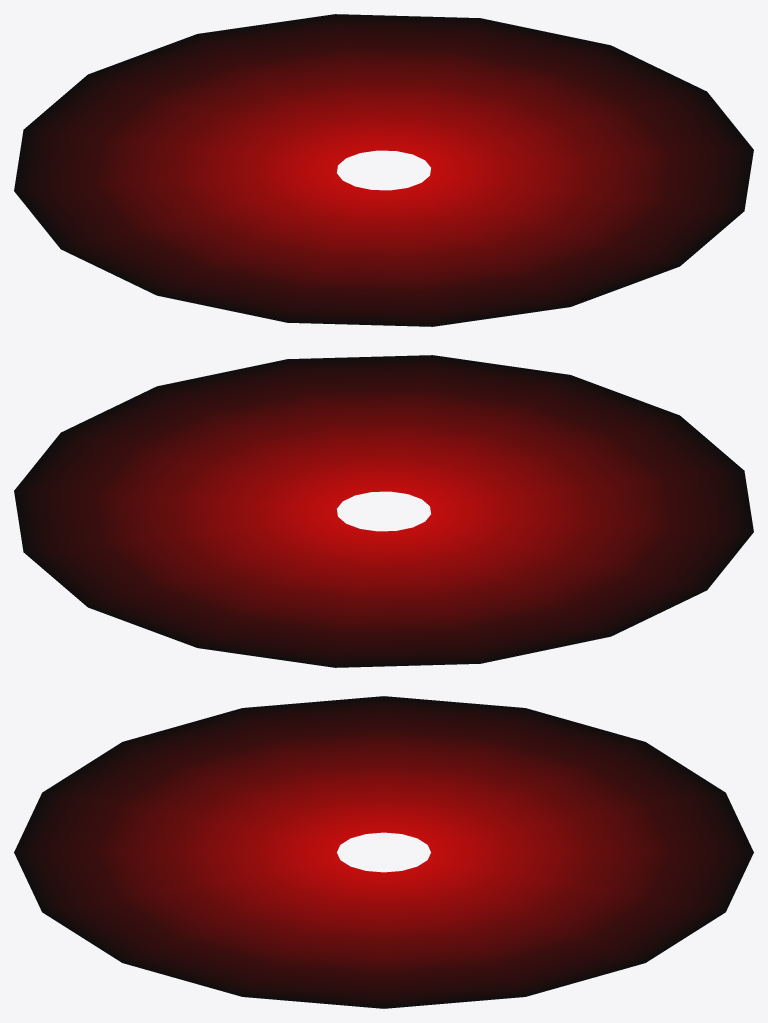
The model's file is splash_ring.fbx.
3 views of the same model, one above another, from view 1: azimuth 30°, elevation 25°; view 2: azimuth 150°, elevation 25°; view 3: azimuth 270°, elevation 25° (orthographic).
Parts seen in each view (by area): view 1: Cylinder; view 2: Cylinder; view 3: Cylinder.
Boxes of the visible parts, box(x1,y1,x2,y2) form: Cylinder: box(14, 14, 753, 326); Cylinder: box(14, 355, 753, 667); Cylinder: box(14, 696, 753, 1008).
Size of the model in its own units: 256 by 256 by 6.73e-22.
